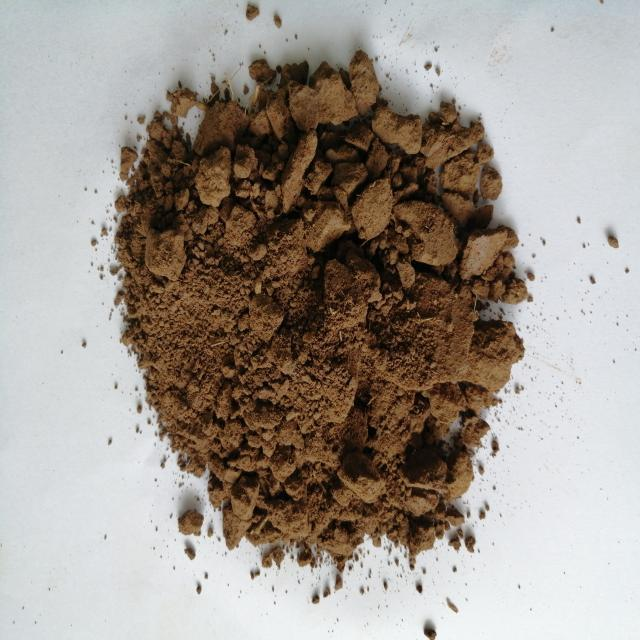soil: (178, 166, 440, 464)
